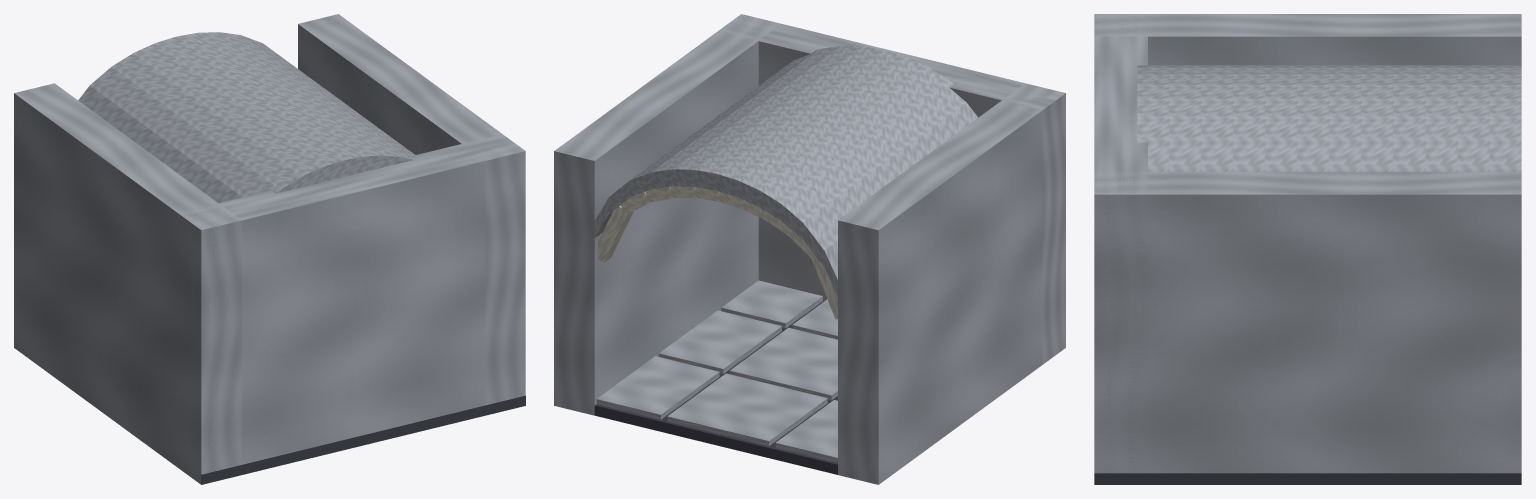
Rendered from vampire-crypt-and-gothic-cathedral-crypt-corridor-end-5c82f359__22974.glb.
3 views of the same model, side by side, from view 1: azimuth 30°, elevation 25°; view 2: azimuth 150°, elevation 25°; view 3: azimuth 270°, elevation 25° (orthographic). The views are drawn at different scales.
Parts seen in each view (by area): view 1: crypt-corridor-end; view 2: crypt-corridor-end; view 3: crypt-corridor-end.
Part boxes in pixels (box(x1,y1,x2,y2)): crypt-corridor-end: box(14, 14, 525, 484); crypt-corridor-end: box(554, 14, 1065, 484); crypt-corridor-end: box(1094, 14, 1521, 484).
Bounding box in the file's own units: 4 × 3.2 × 4.
3 materials, 2 textured.
